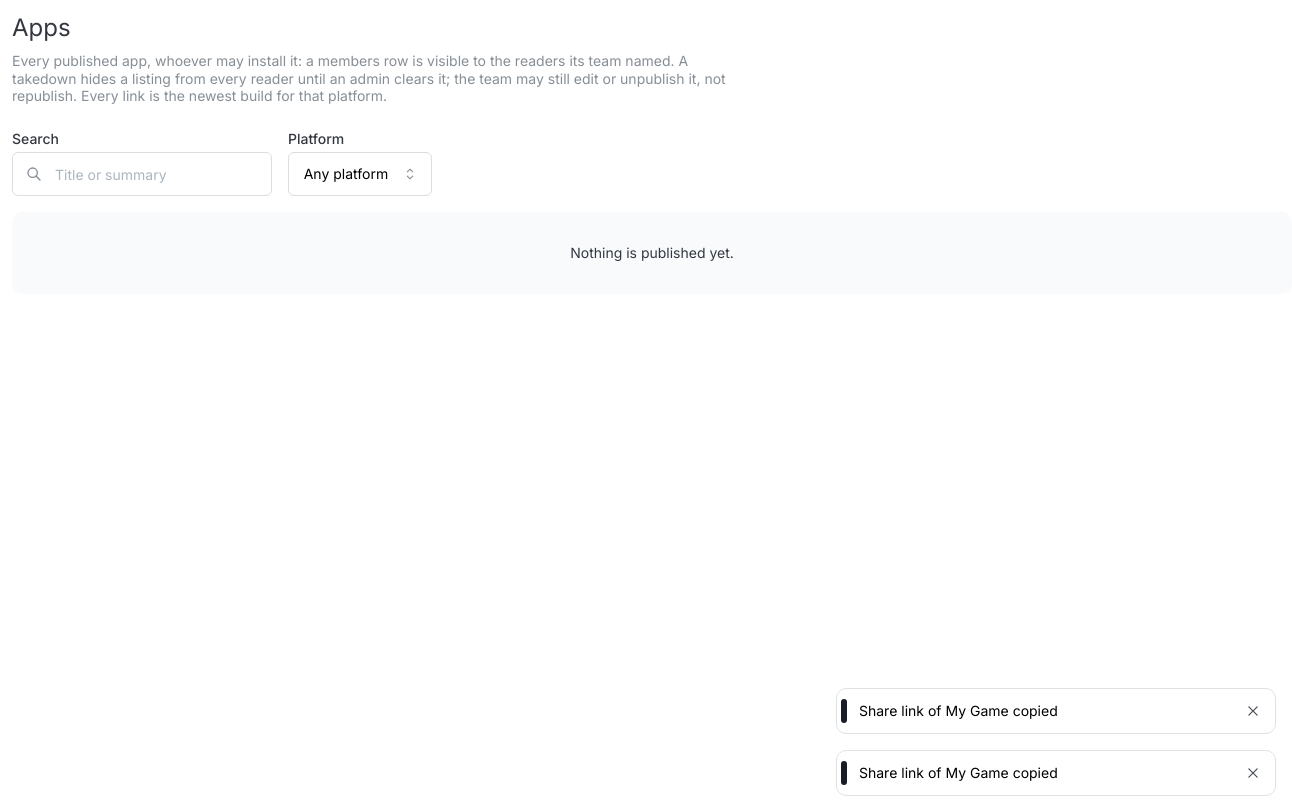
Test: ListingsPage as a platform admin › hands search and platform to the admin route
This screenshot has width=1292, height=812.
expect the text "Nothing is published yet." is shown: met, box [570,244,734,262]
Type "bad" into the search field. click: (142, 174)
box: [12,152,272,196]
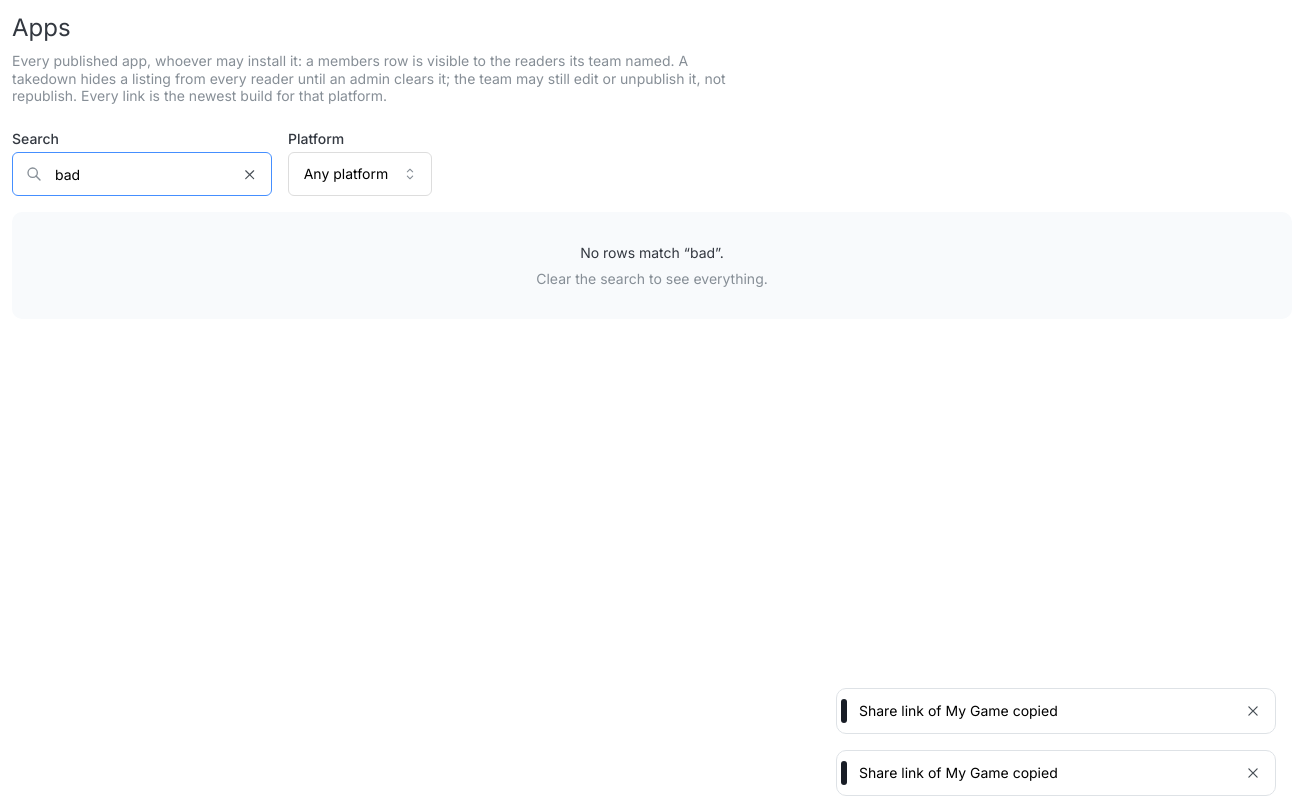
expect the text "No rows match “bad”." is shown: met, box [580,244,724,262]
Select "ios" in the dropdown labelled "Platform". click: (360, 174)
box: [288,152,432,196]
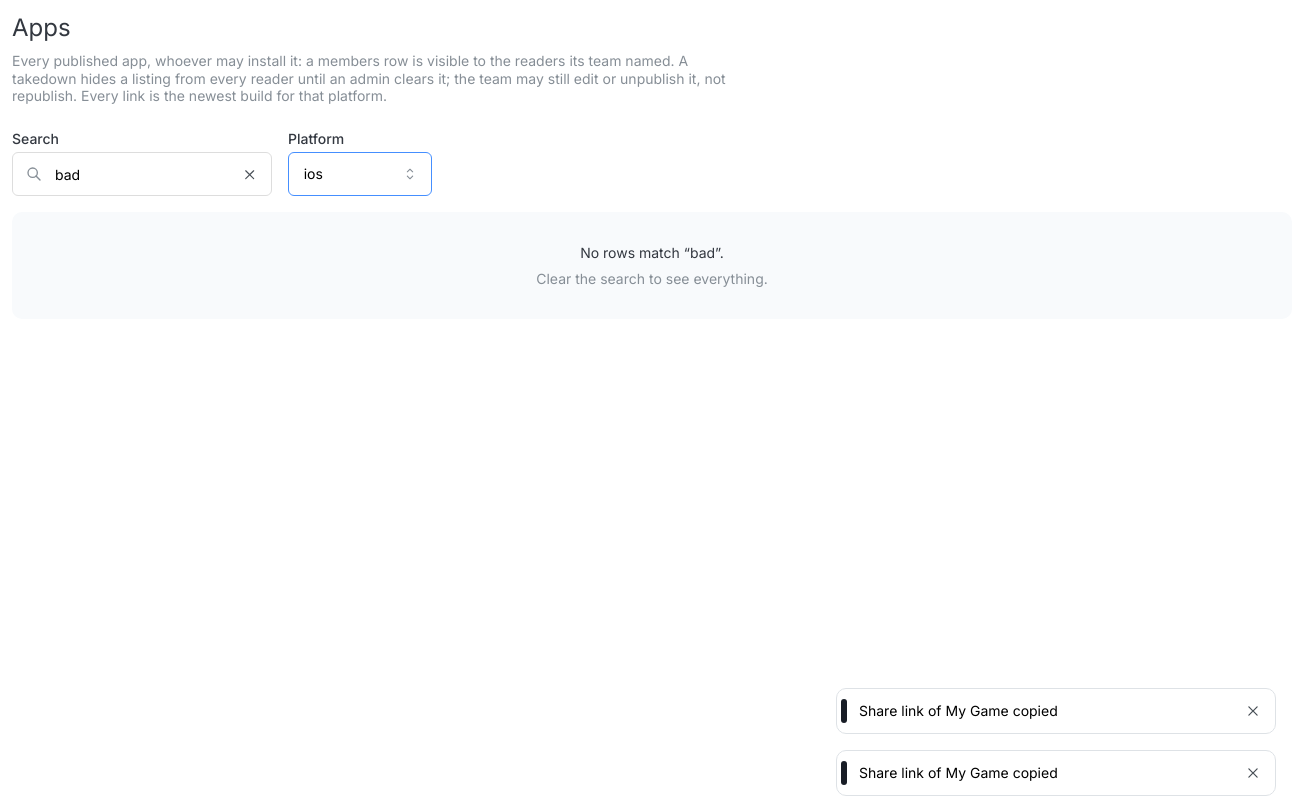
Note: A platform with no match is a no-match state too, not "nothing yet".
Clear the search field. click: (142, 174)
box: [12,152,272,196]
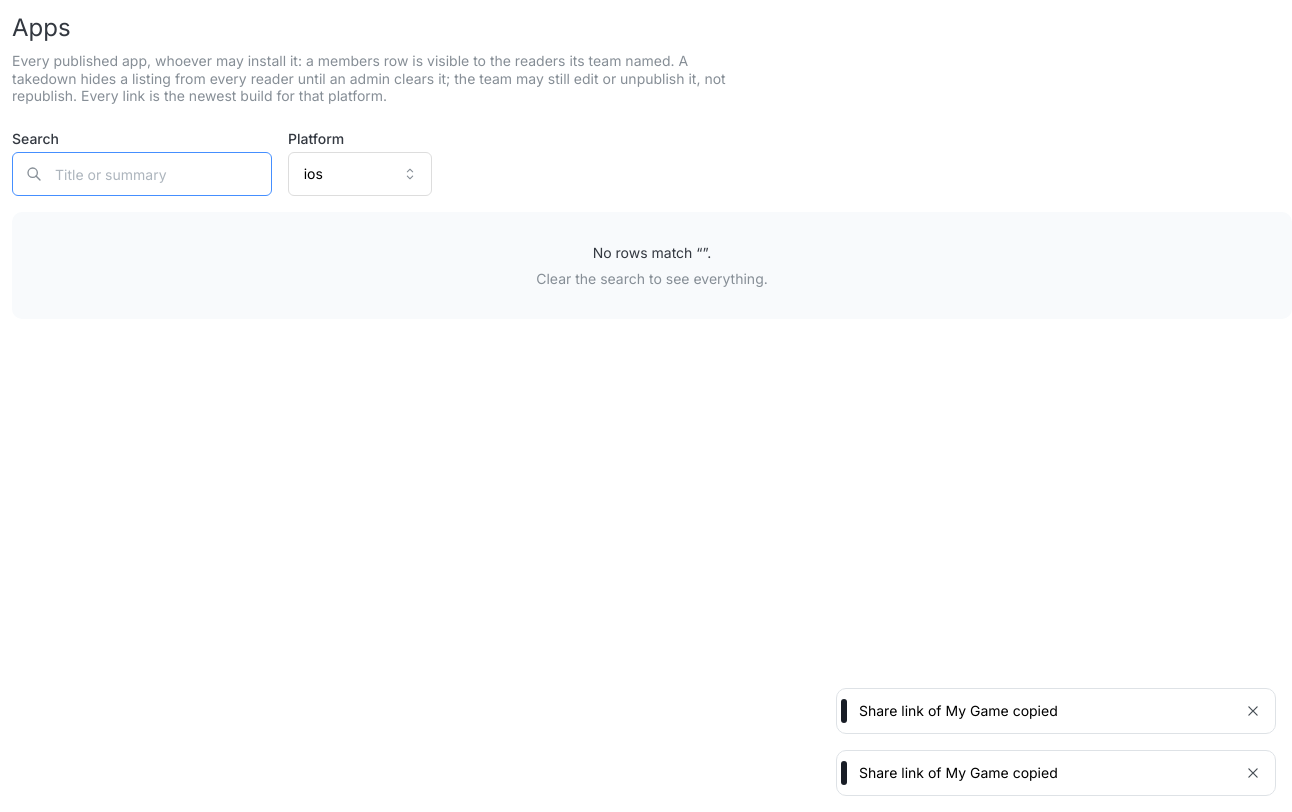
expect the text "Nothing is published yet." is not shown: met
expect the text "No rows match “”." is shown: met, box [593,244,711,262]
